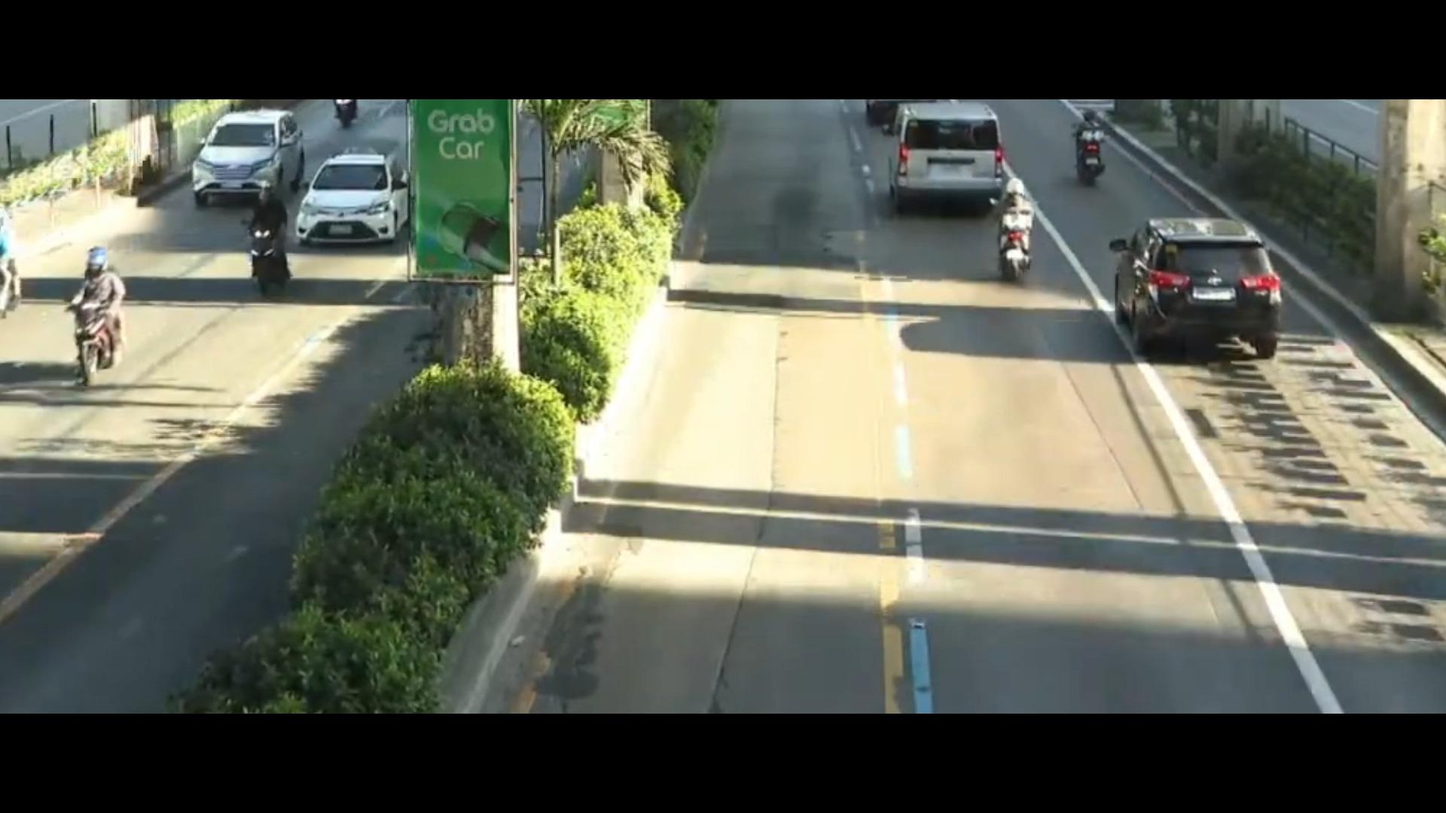Motorcycle: (39, 243, 147, 408), (972, 172, 1062, 300), (221, 183, 292, 307), (1058, 102, 1132, 193), (320, 93, 368, 130)
SUV: (1093, 194, 1315, 375), (161, 96, 320, 215)
Sedan: (278, 142, 418, 265)
Van: (849, 94, 1021, 220)
